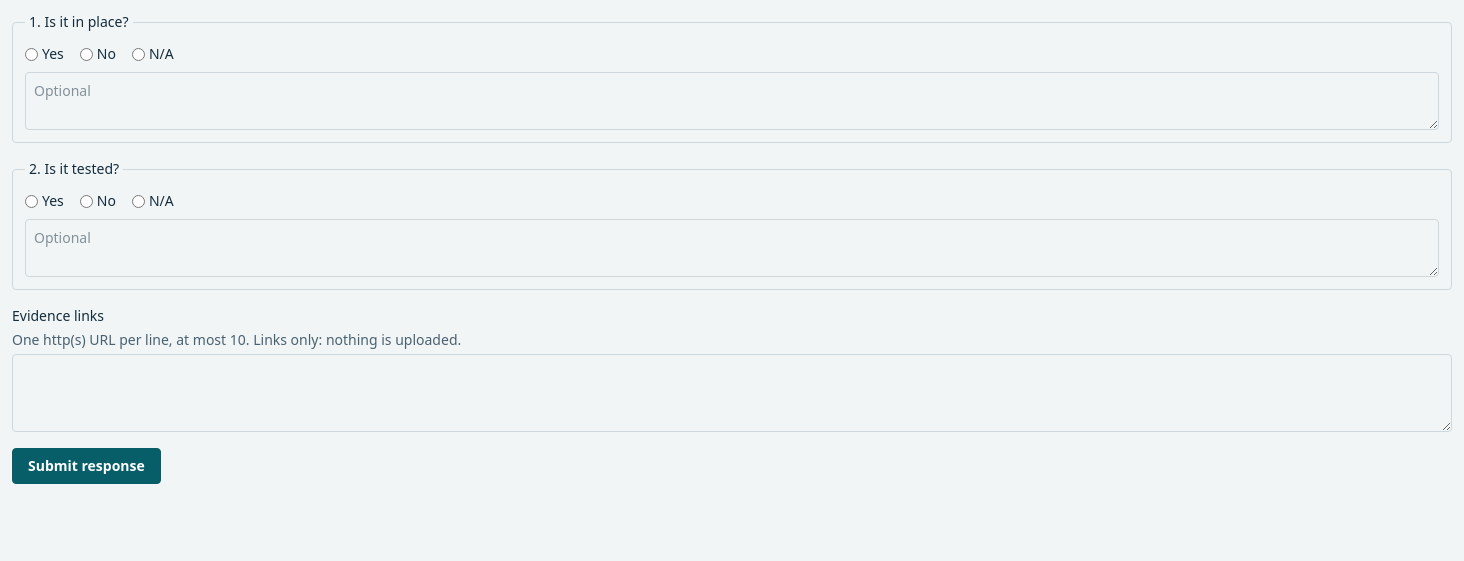
it: CheckUpResponseForm (#155) › sends nothing while a question is unanswered, a No has no description or a link isn't http(s)
The width and height of the screenshot is (1464, 561).
Click the button "Submit response" at (86,466), box [12, 448, 161, 484]
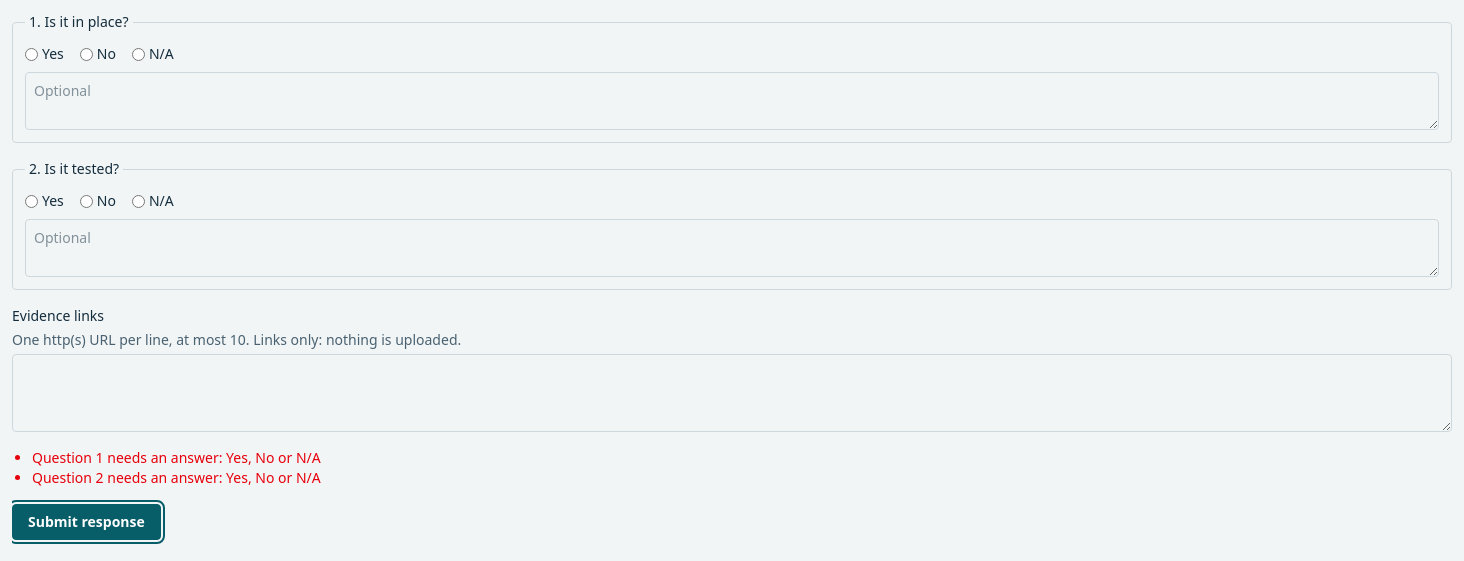
Now the message shows "Question 1 needs an answer", box [32, 448, 321, 467]
Now the message shows "Question 2 needs an answer", box [32, 468, 321, 487]
Click the radio button with aria-label "Yes for question 1" at (32,54), box [25, 48, 38, 60]
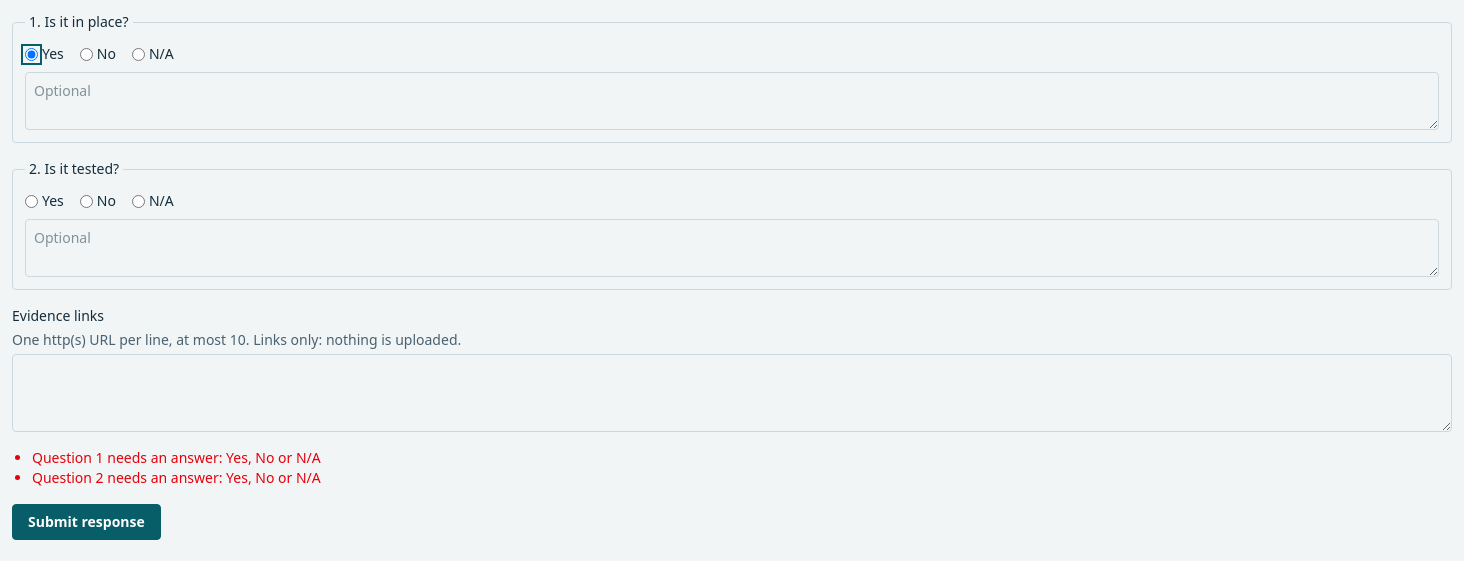
Click the radio button with aria-label "No for question 2" at (86,201), box [80, 194, 93, 208]
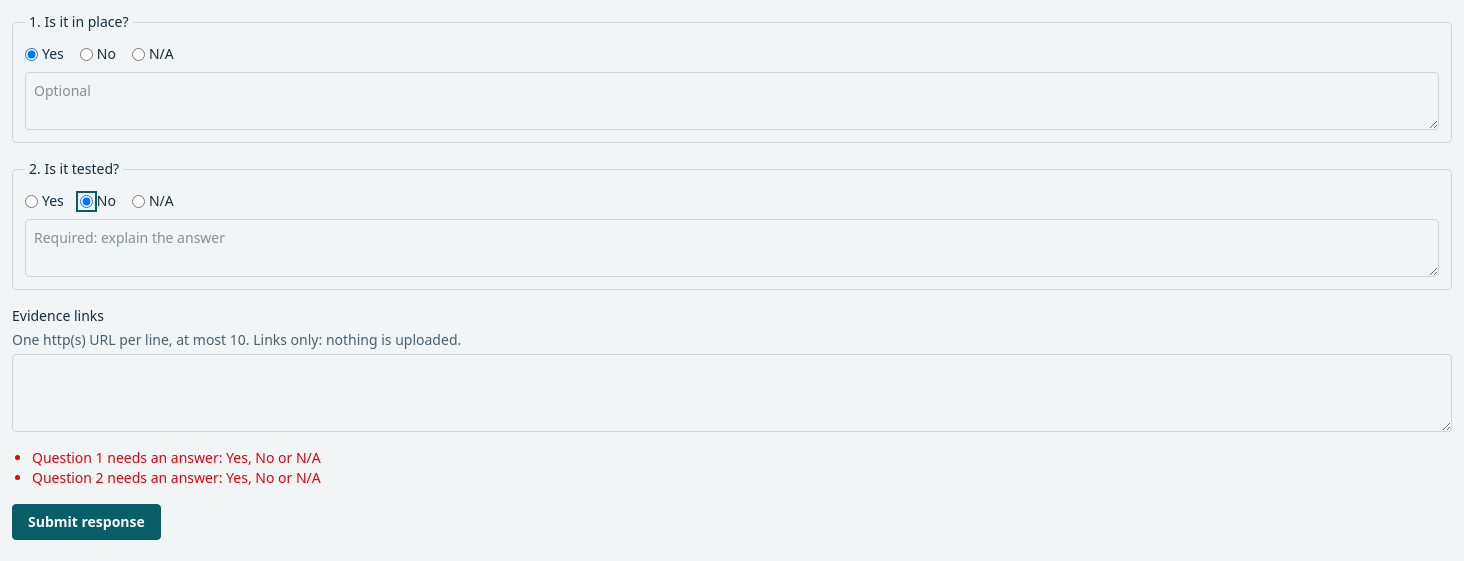
Click the text box labelled "Evidence links" at (732,393), box [12, 354, 1452, 432]
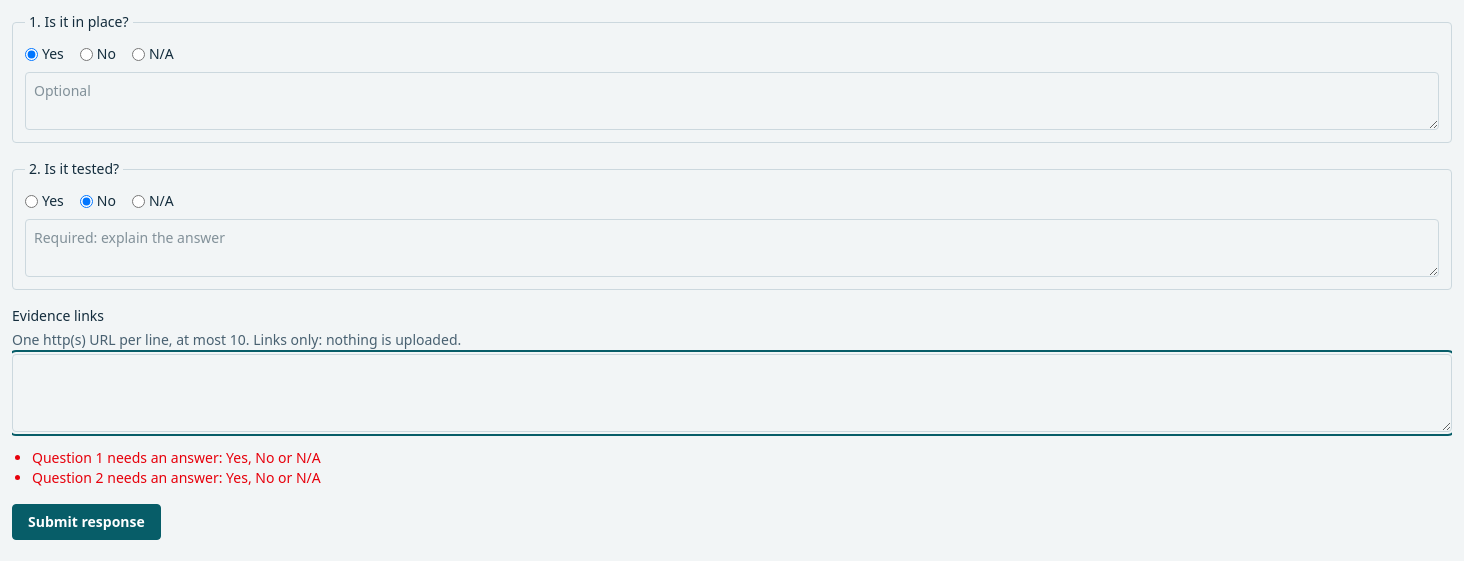
Type keys "javascript:alert(1)"
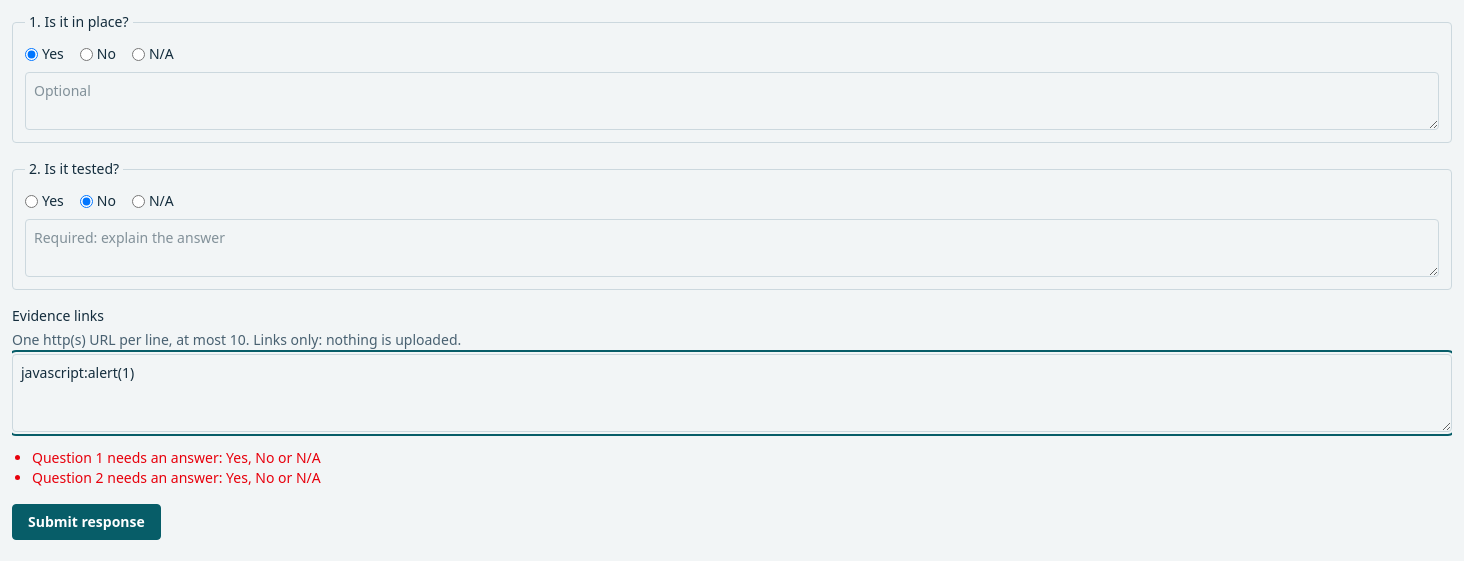
Click the button "Submit response" at (86,522), box [12, 504, 161, 540]
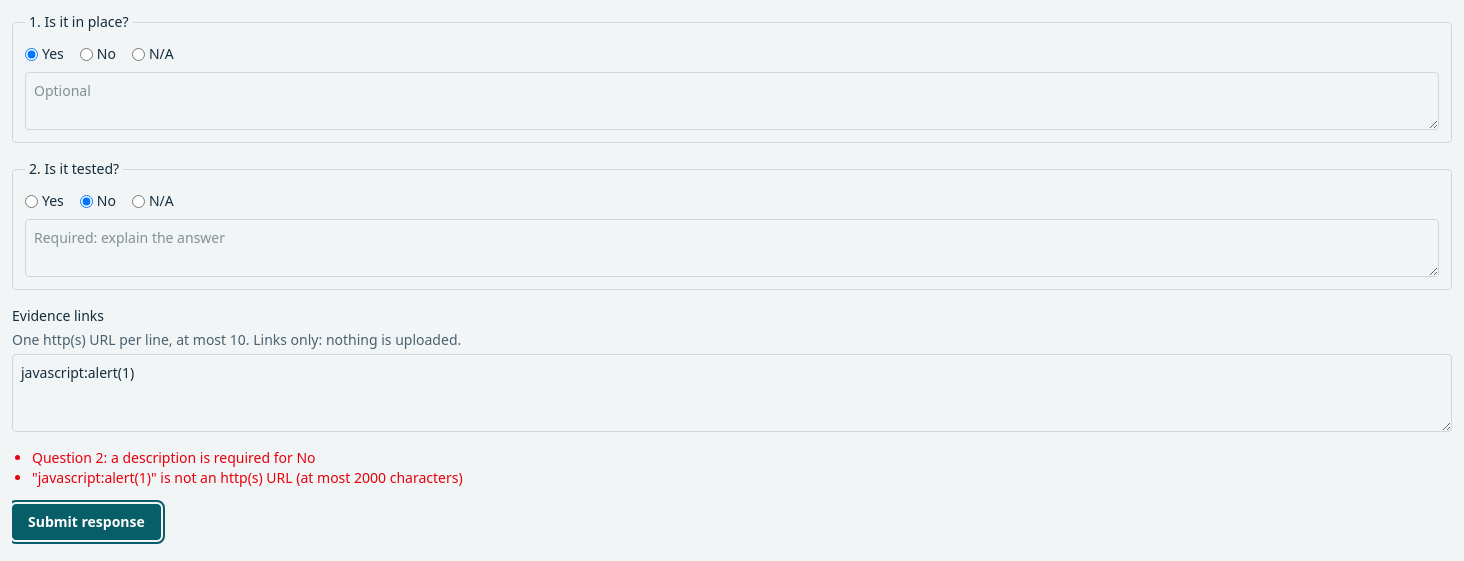
Now the message shows "a description is required for No", box [32, 448, 316, 467]
Now the message shows "is not an http(s) URL", box [32, 468, 463, 487]
